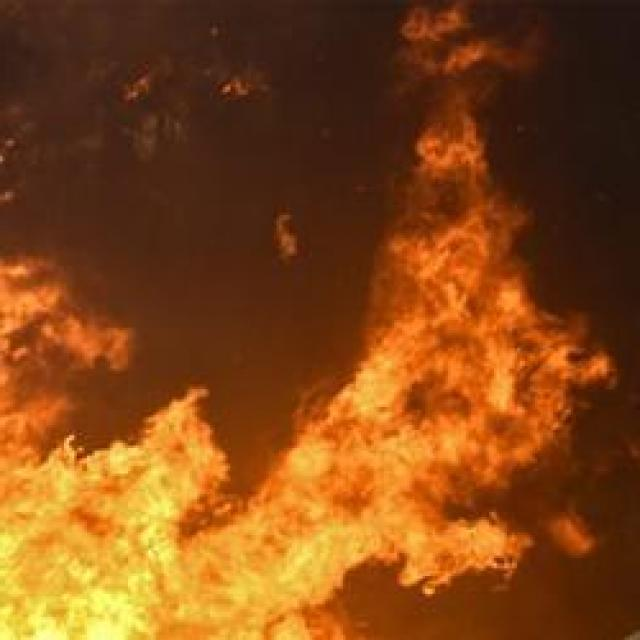fire: (264, 326, 544, 598), (1, 387, 218, 640), (366, 228, 513, 432)
smoke: (356, 0, 510, 205)
